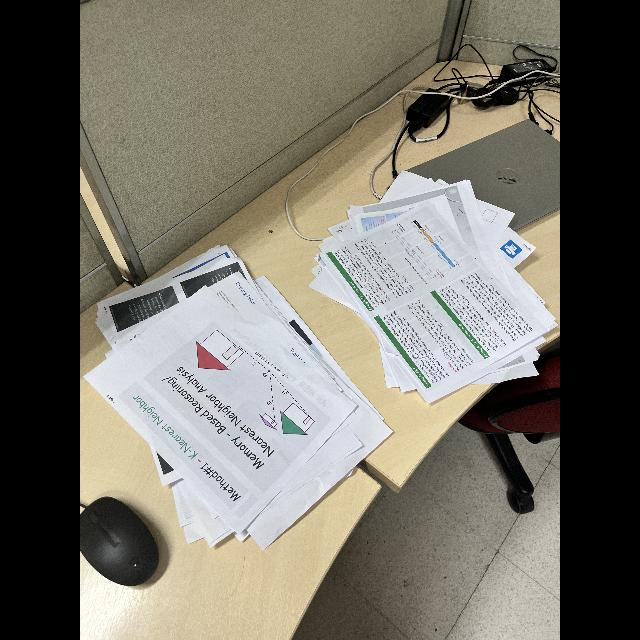reuseable_paper: (84, 240, 392, 548), (314, 161, 560, 403)
